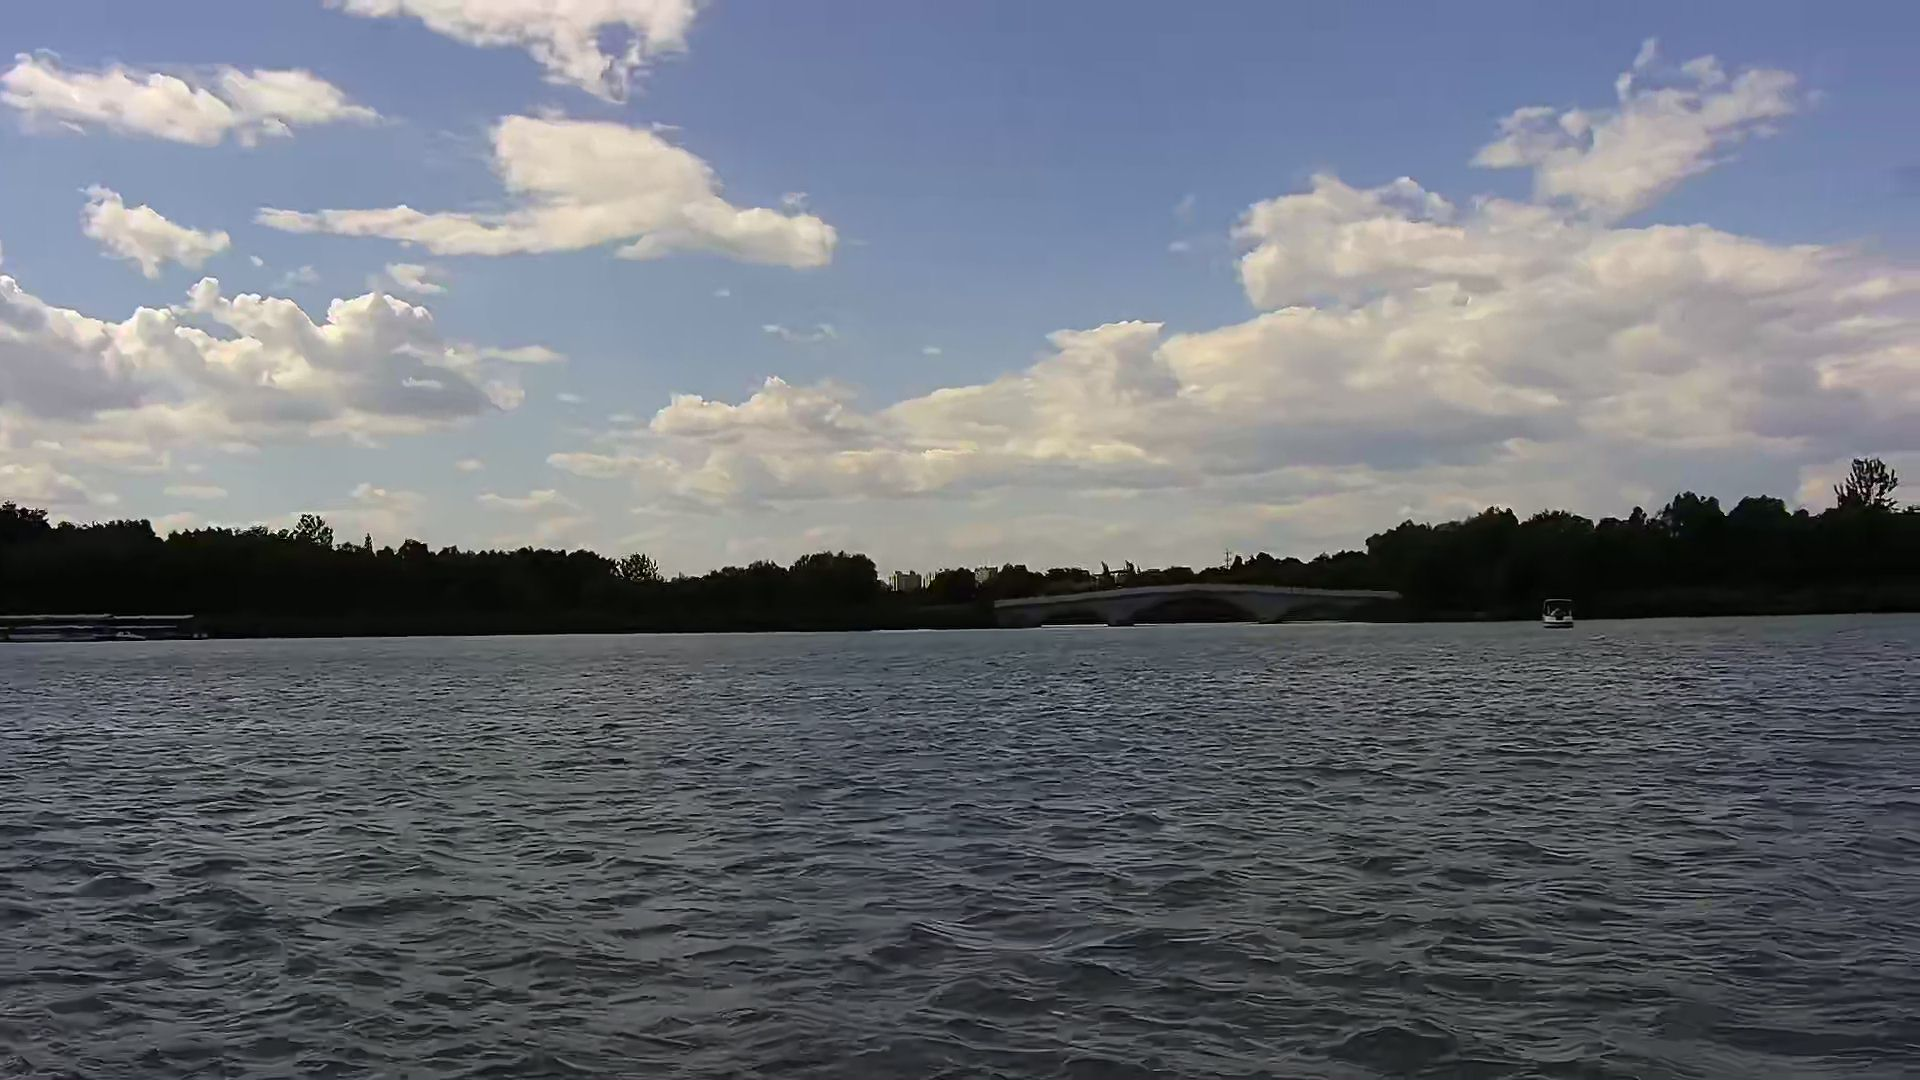boat: (1531, 595, 1586, 629)
bridge: (986, 582, 1404, 636)
